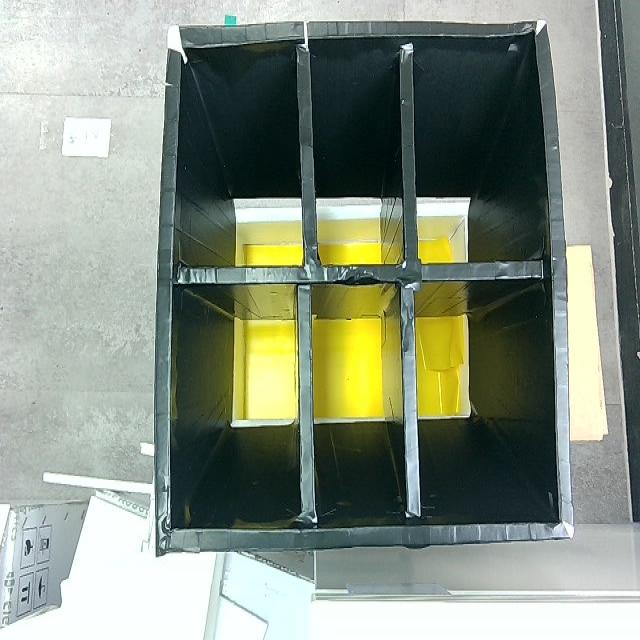box: (147, 12, 579, 556)
